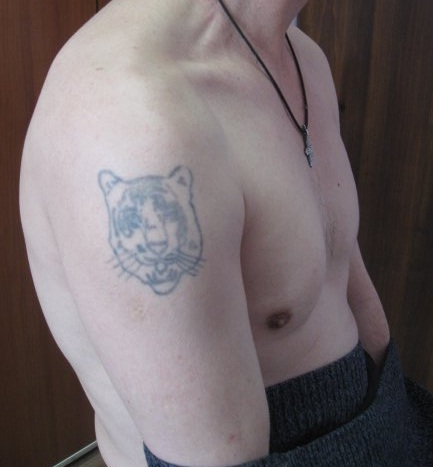tatu5_tigr: (68, 153, 233, 305)
